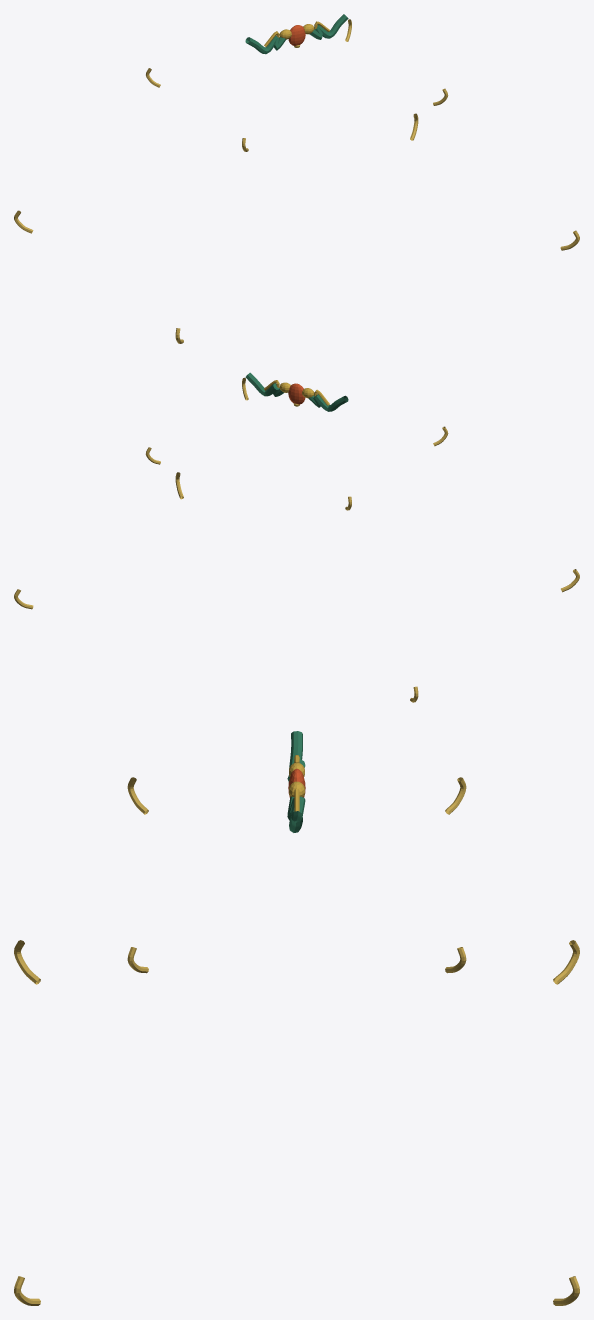
Rendered from gate-anhoa-hero.glb.
The picture shows the model from 3 angles, top to bottom: view 1: azimuth 30°, elevation 25°; view 2: azimuth 150°, elevation 25°; view 3: azimuth 270°, elevation 25°; orthographic projection. The views are drawn at different scales.
Parts seen in each view (by area): view 1: gate_anhoa_hero; view 2: gate_anhoa_hero; view 3: gate_anhoa_hero.
Part boxes in pixels (bbox=[...]): gate_anhoa_hero: bbox=[14, 14, 579, 343]; gate_anhoa_hero: bbox=[14, 372, 579, 702]; gate_anhoa_hero: bbox=[14, 731, 579, 1305].
Size of the model in its own units: 13.41 by 6.88 by 9.41.
